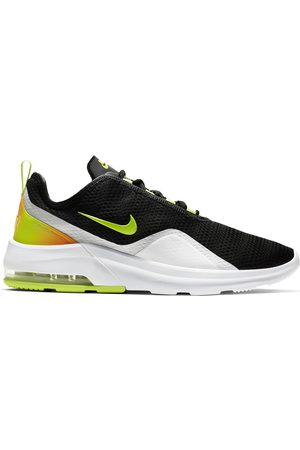nike: (78, 210, 140, 239)
